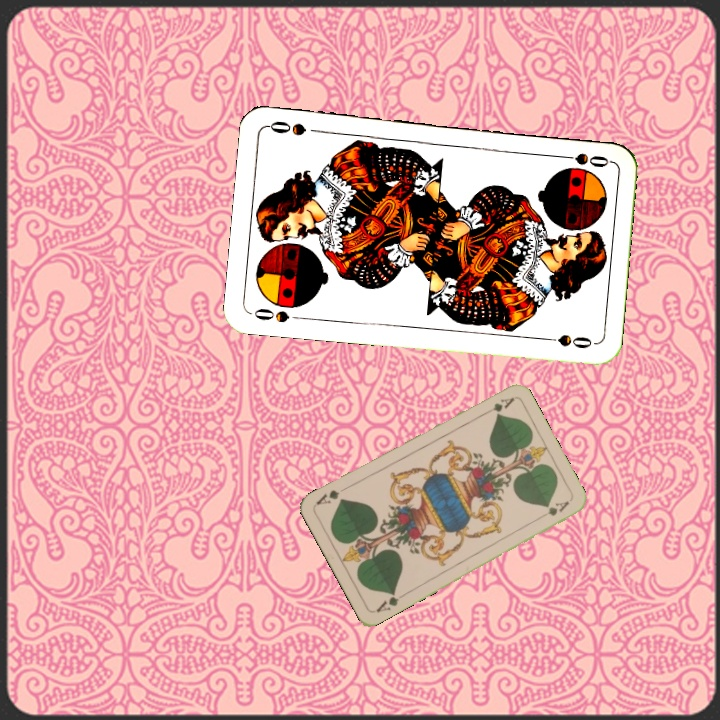GA: (478, 393, 517, 418), (372, 588, 408, 615)
SO: (248, 304, 307, 326), (553, 149, 612, 170)
